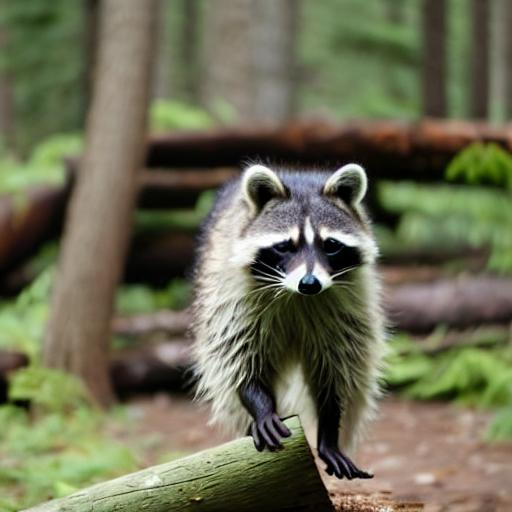raccoon: (188, 157, 391, 406)
